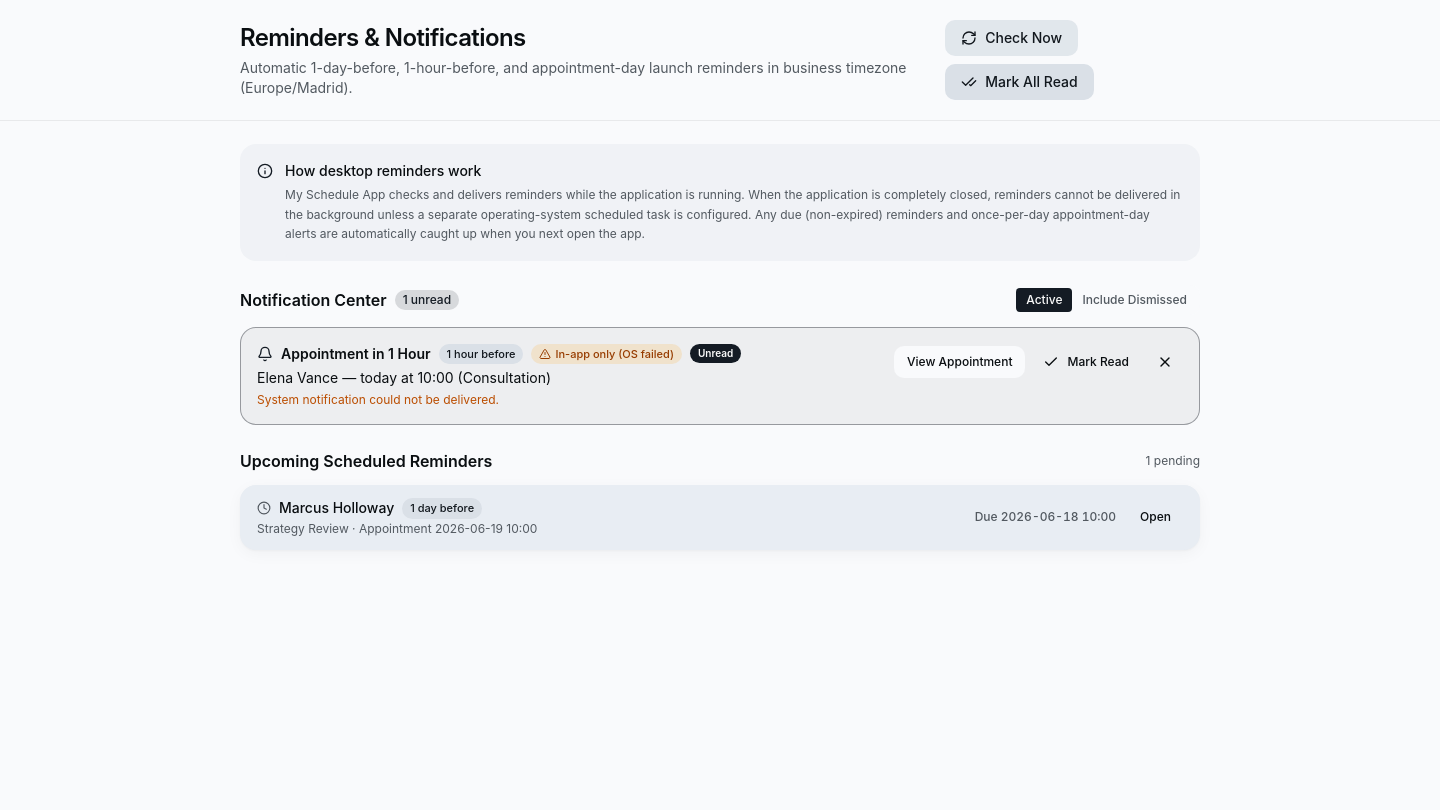
it: RemindersPage › renders closed-app disclosure, notifications with OS failure fallback, and upcoming reminders
Check: the text "When the application is completely closed" is shown, box x1=285 y1=187 x2=1180 y2=241
Check: the heading "Appointment in 1 Hour" is shown, box x1=281 y1=344 x2=431 y2=364
Note: Mark notification as read
Click the button "Mark Read" at (1086, 362), box x1=1032 y1=346 x2=1141 y2=378
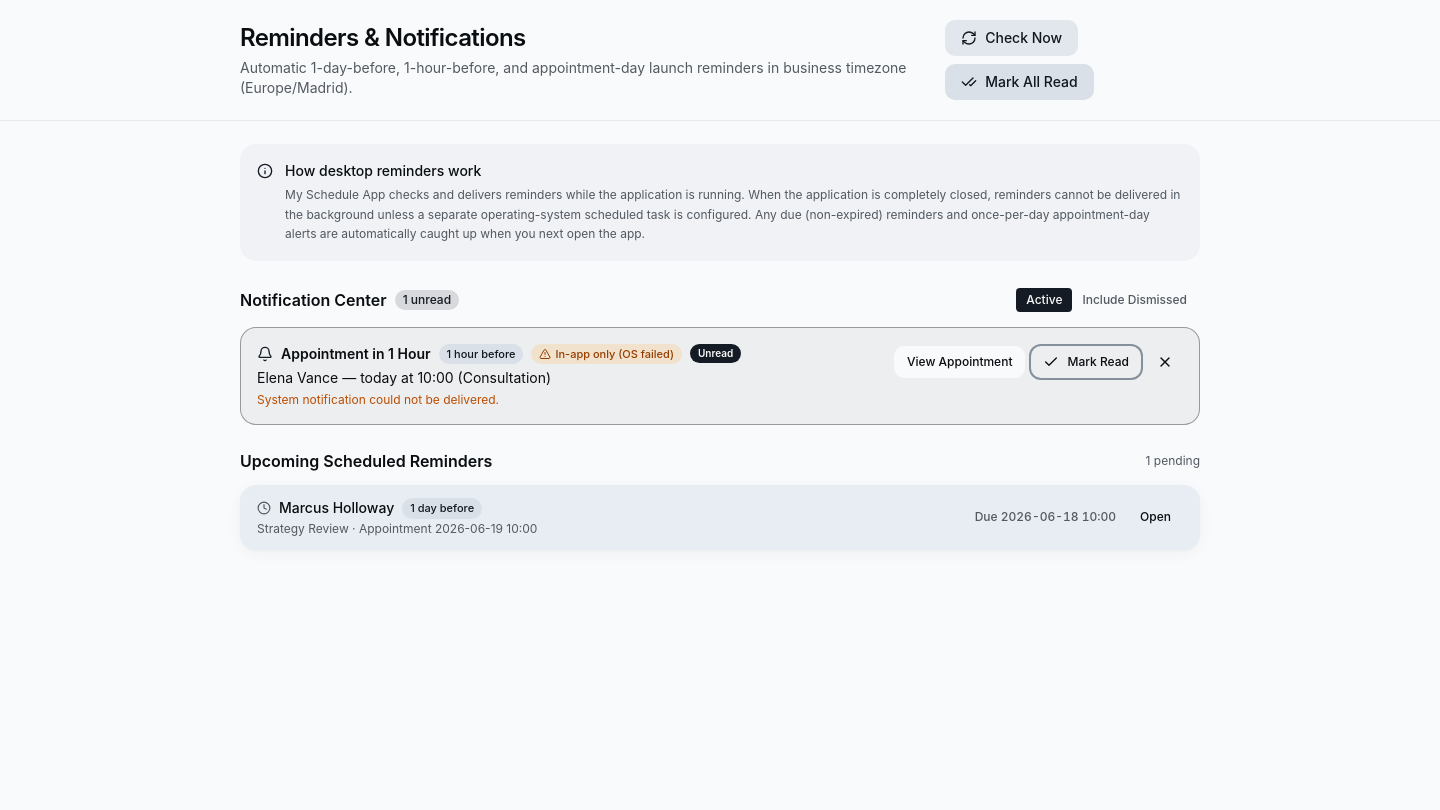
Note: Trigger manual check
Click the button "Check Now" at (1012, 38), box x1=945 y1=20 x2=1078 y2=56
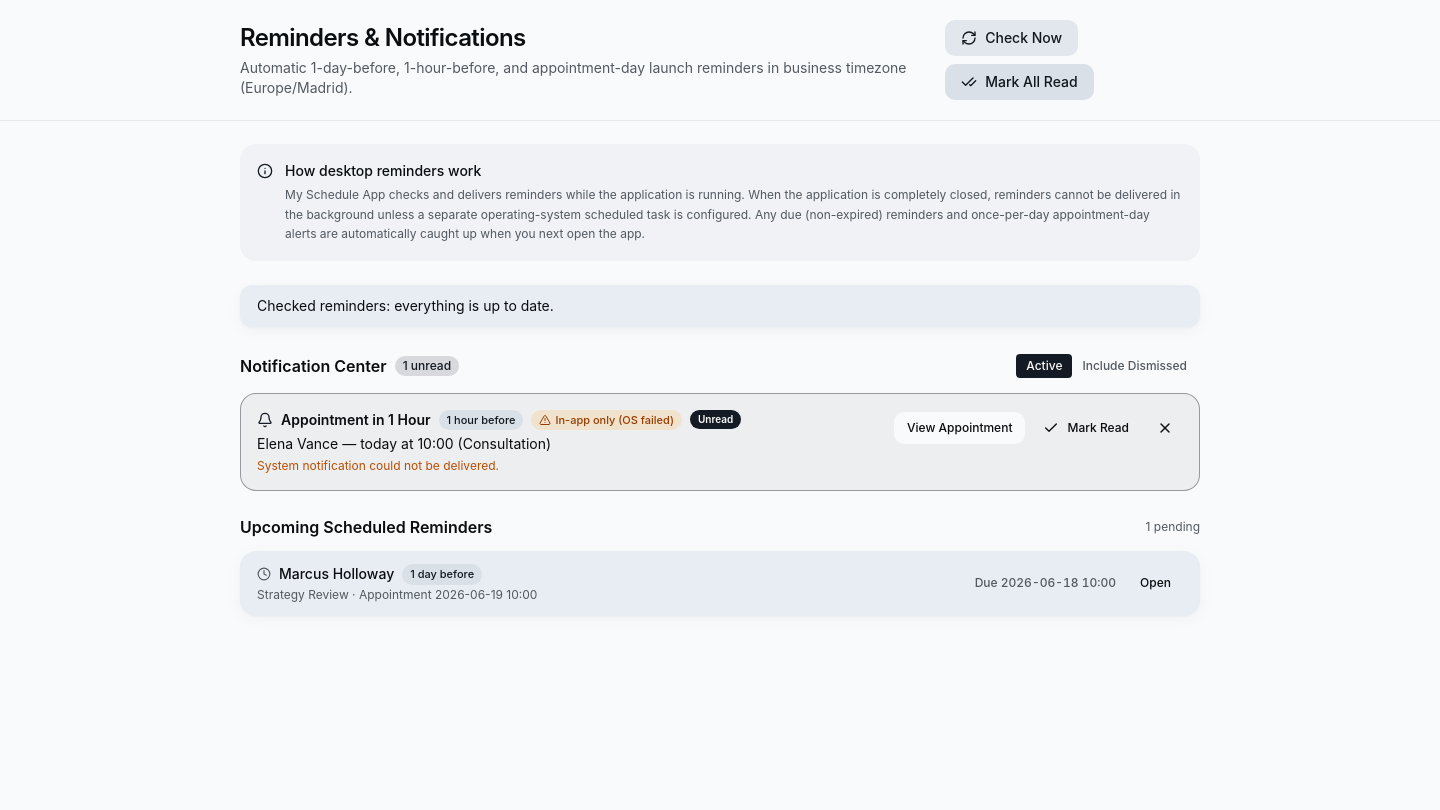
Check: the text "Checked reminders: everything is up to date." is shown, box x1=240 y1=284 x2=1200 y2=326
